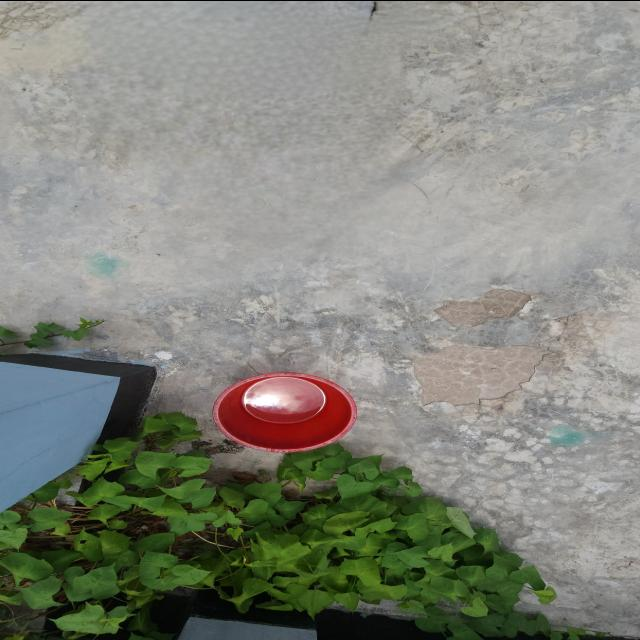Breeding Place: (0, 412, 557, 640), (188, 364, 370, 464)
